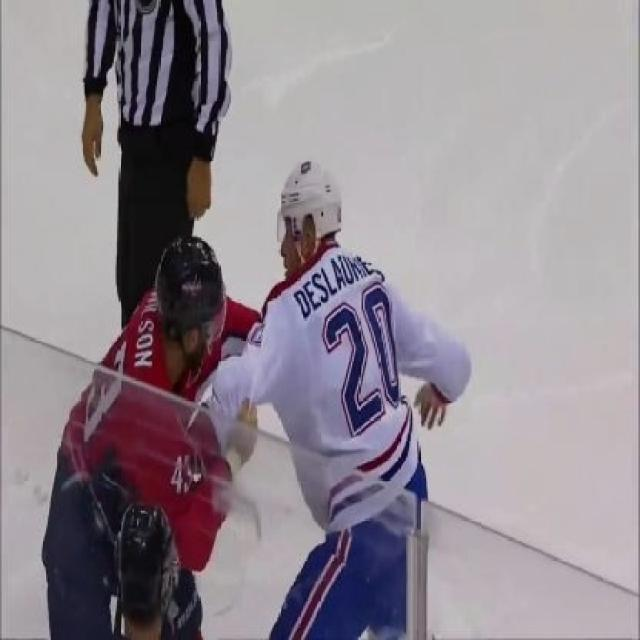fight: (36, 152, 476, 640)
non-fight: (74, 1, 238, 335)
